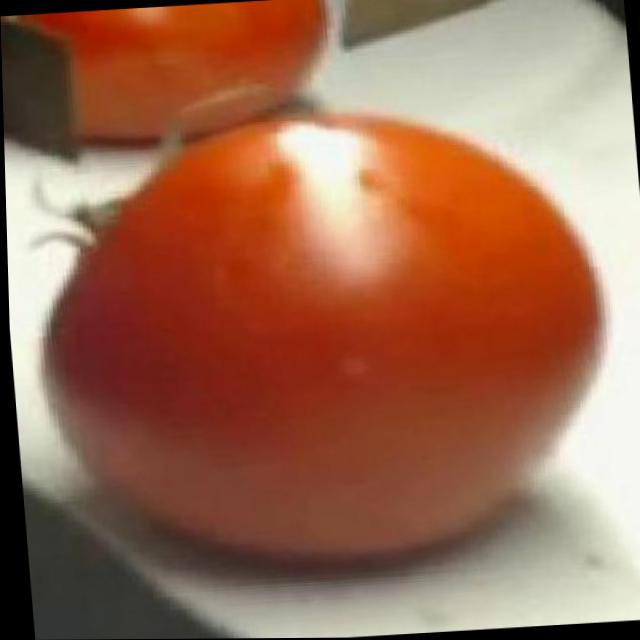tomato: (27, 99, 611, 582)
